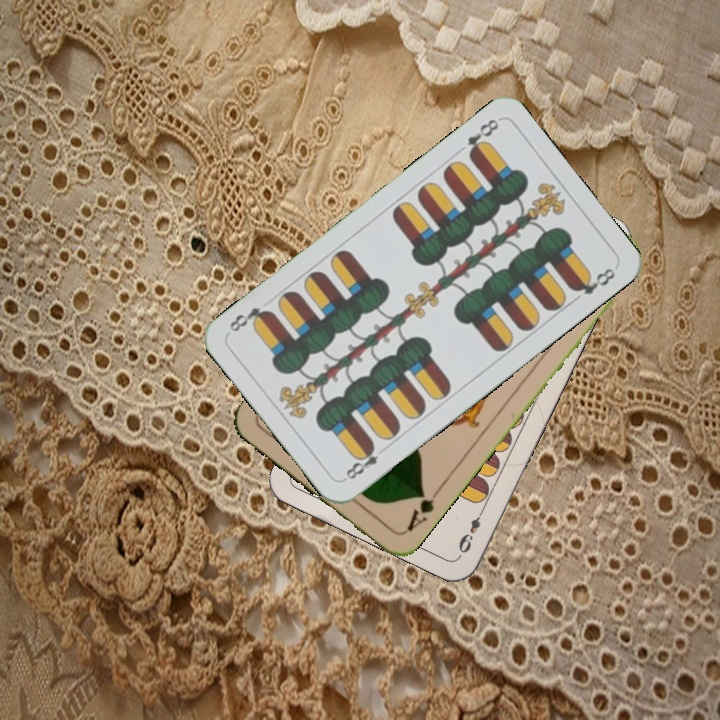E8: (462, 114, 502, 161), (340, 440, 382, 483)
E9: (454, 503, 488, 556)
GA: (400, 485, 443, 534)
